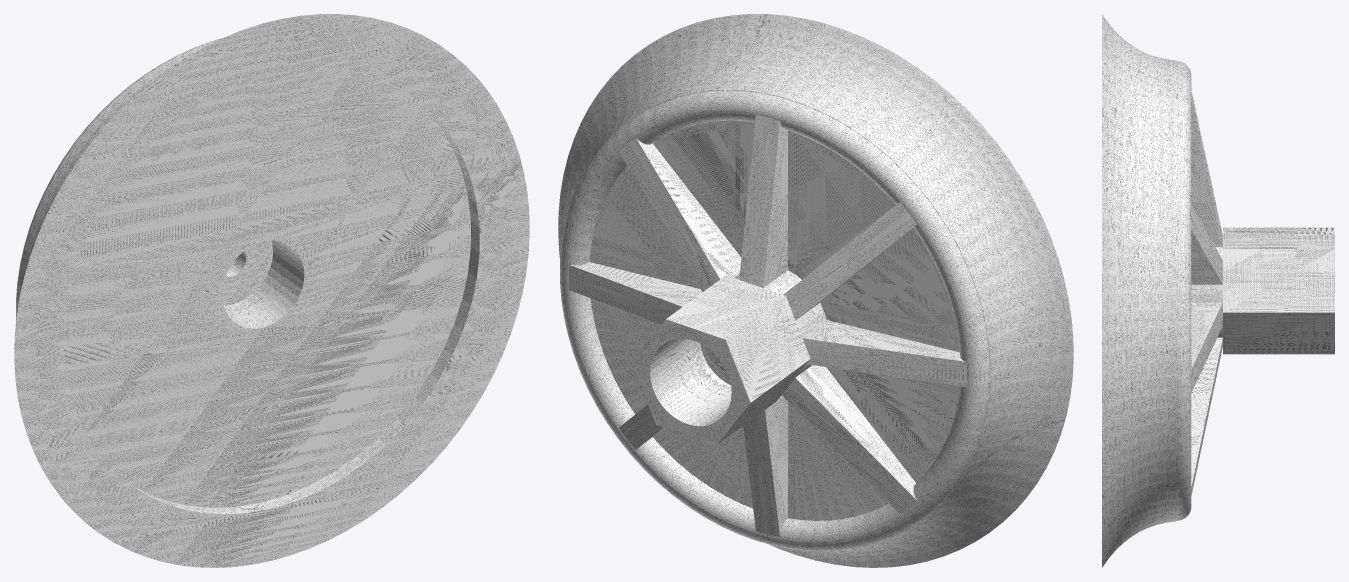
The model's file is turntable_suction_cup_with_texture.dae.
The picture shows the model from 3 angles, left to right: view 1: azimuth 30°, elevation 25°; view 2: azimuth 150°, elevation 25°; view 3: azimuth 270°, elevation 25°; orthographic projection. The views are drawn at different scales.
Visible parts, largest first — view 1: SketchUp (×4); view 2: SketchUp (×4); view 3: SketchUp (×3).
Boxes of the visible parts, bbox=[...] form: SketchUp (×4): bbox=[14, 14, 529, 567]; SketchUp (×4): bbox=[558, 14, 1073, 567]; SketchUp (×3): bbox=[1102, 14, 1334, 567].
Bounding box in the file's own units: 2974 × 1250 × 2975.
Materials: 2 (1 with a texture image).
